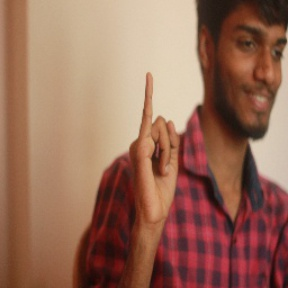I: (125, 72, 189, 214)
